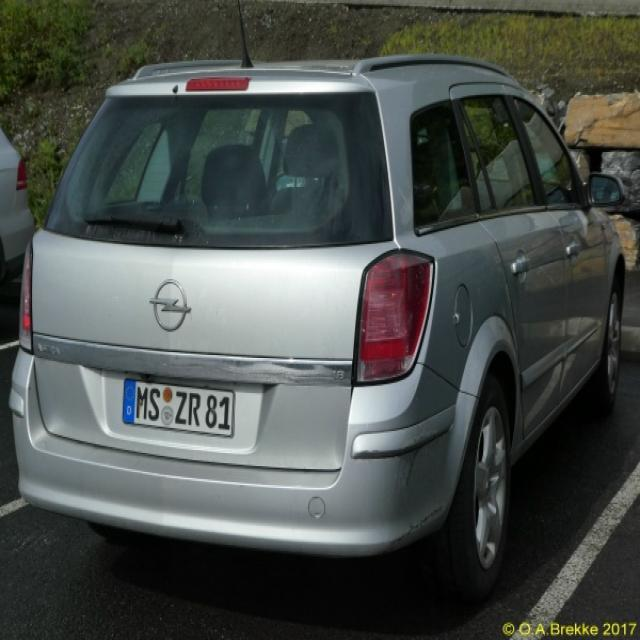license-plates: (124, 379, 232, 436)
